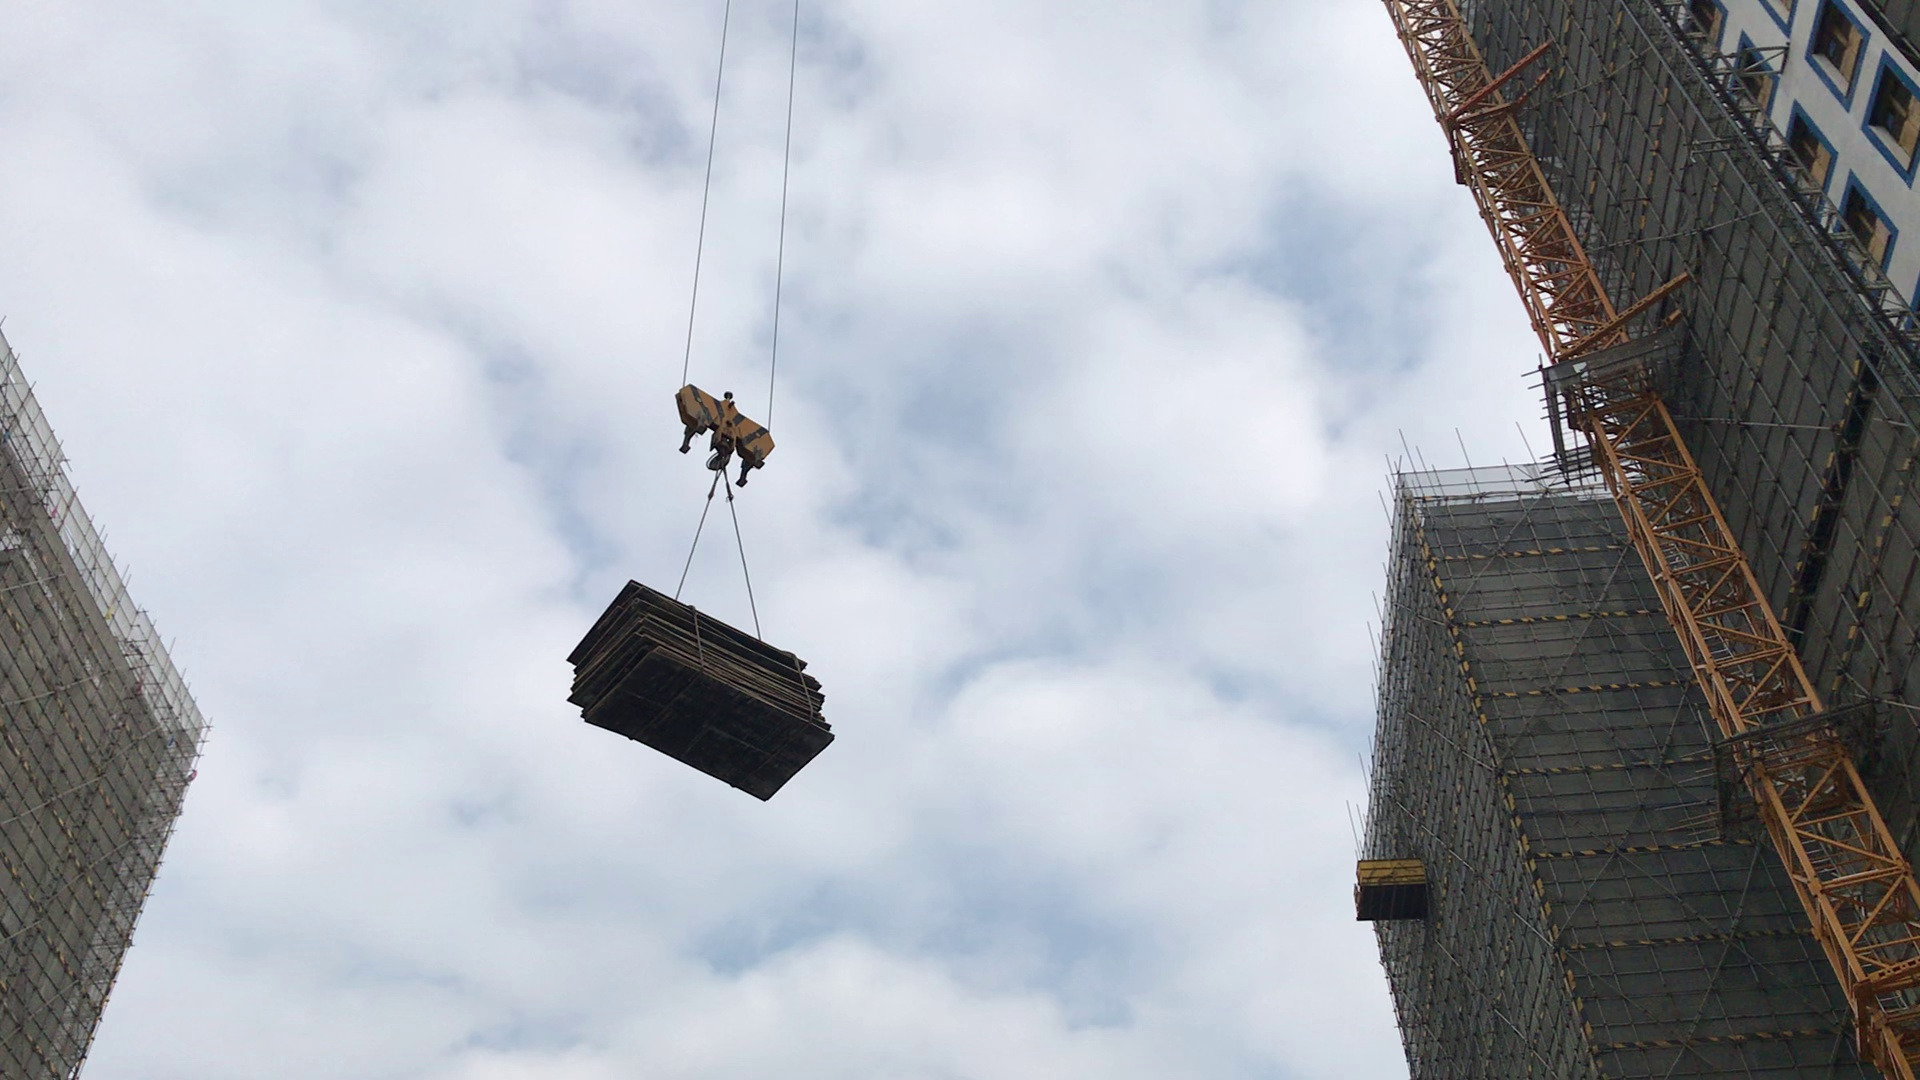board: (572, 584, 837, 808)
hook: (669, 368, 782, 498)
